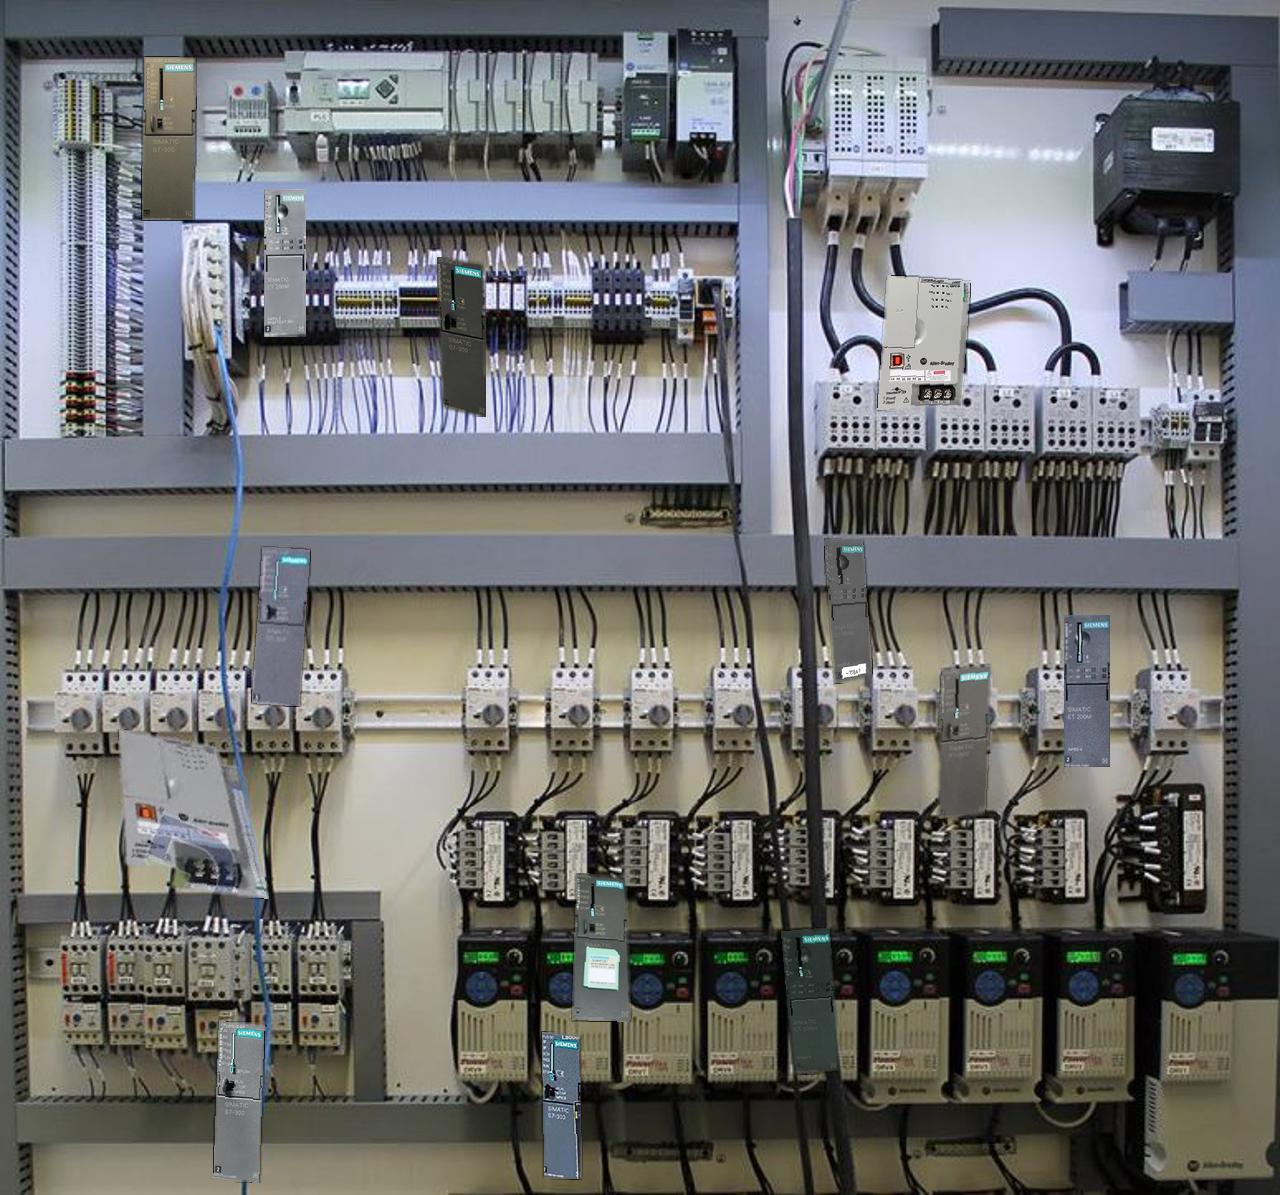AllenBradley: (119, 729, 268, 898), (877, 275, 970, 409)
Siemens: (252, 548, 309, 705), (141, 57, 195, 219), (572, 873, 630, 1021), (213, 1021, 264, 1182), (938, 665, 990, 818), (437, 257, 485, 416), (542, 1032, 580, 1178)
